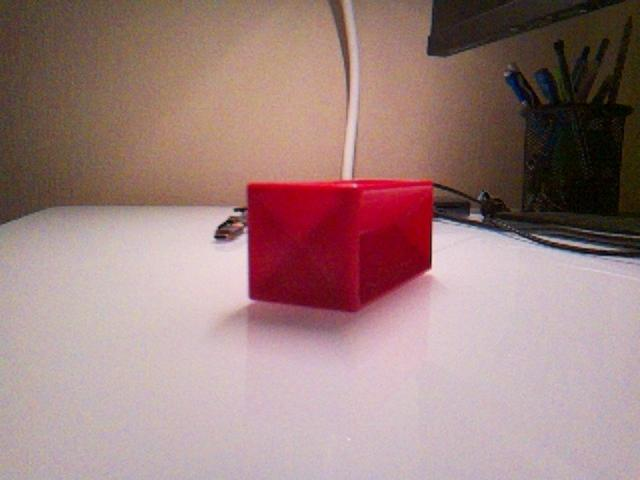red: (246, 178, 435, 312)
